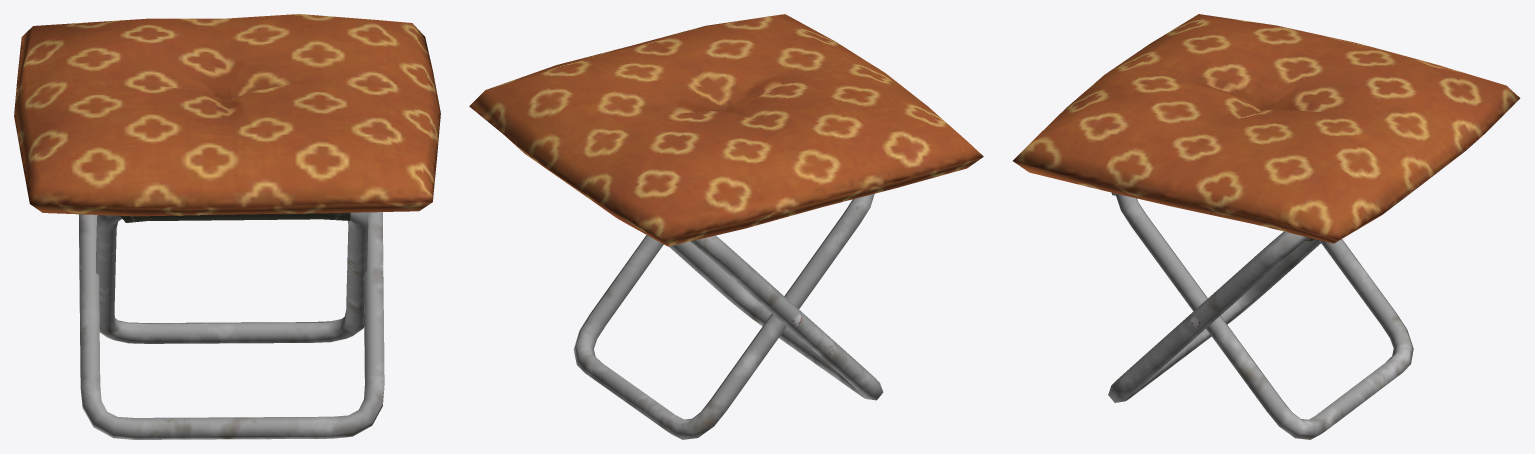
The picture shows the model from 3 angles, left to right: view 1: azimuth 30°, elevation 25°; view 2: azimuth 150°, elevation 25°; view 3: azimuth 270°, elevation 25°; orthographic projection. The views are drawn at different scales.
Parts seen in each view (by area): view 1: Cushion__Zabuton2, Bone00__Fuka01X; view 2: Cushion__Zabuton2, Bone00__Fuka01X; view 3: Cushion__Zabuton2, Bone00__Fuka01X.
Part boxes in pixels (left/top/right/bottom): Cushion__Zabuton2: left=14, top=14, right=440, bottom=216; Bone00__Fuka01X: left=78, top=212, right=384, bottom=439; Cushion__Zabuton2: left=469, top=14, right=983, bottom=246; Bone00__Fuka01X: left=573, top=194, right=883, bottom=439; Cushion__Zabuton2: left=1013, top=14, right=1520, bottom=243; Bone00__Fuka01X: left=1108, top=192, right=1413, bottom=439.
Bounding box in the file's own units: 1.19 × 0.7581 × 1.19.
Materials: 2 (2 with a texture image).
